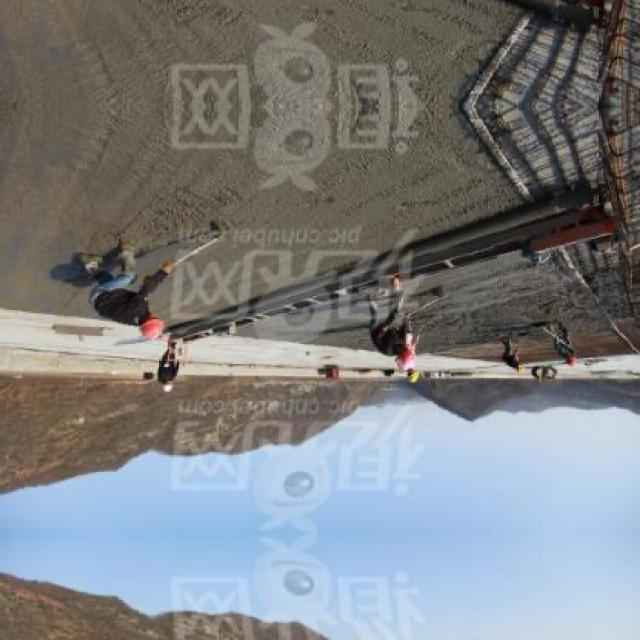con casco: (107, 281, 163, 339)
